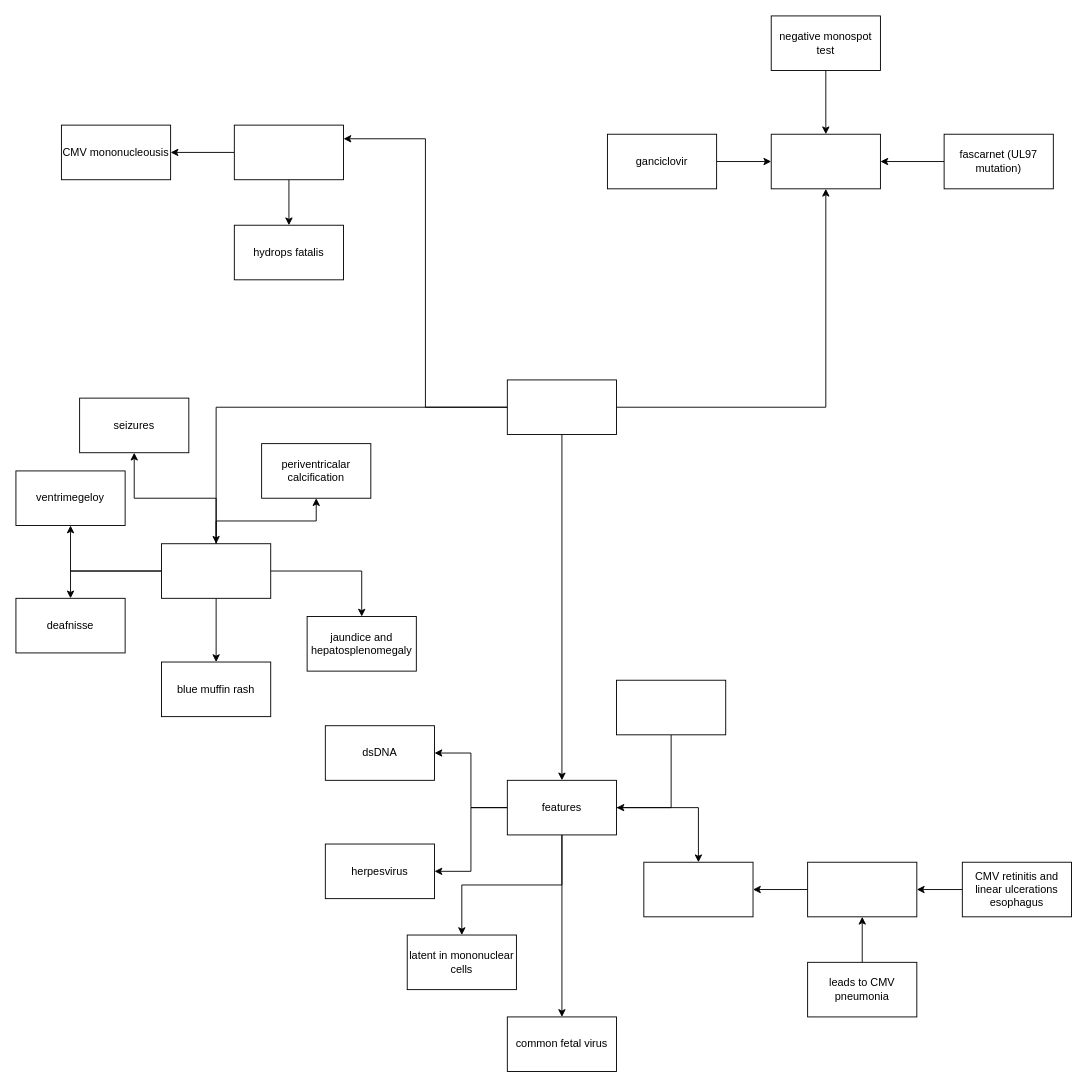
Some shapes in this 1087 by 1087 pixel diagram are drawn without their labels. The centre of each missing label's shape, as x and y in pixels:
"can re-activate during organ transplant and HIV patients" belongs at [862,889].
"complications" belongs at [288,152].
"cytomegalovirus" belongs at [561,407].
"more likely to be asymptomatic" belongs at [698,889].
"owls bodies cells" belongs at [671,707].
"symptoms" belongs at [216,570].
"treatment" belongs at [825,161].
